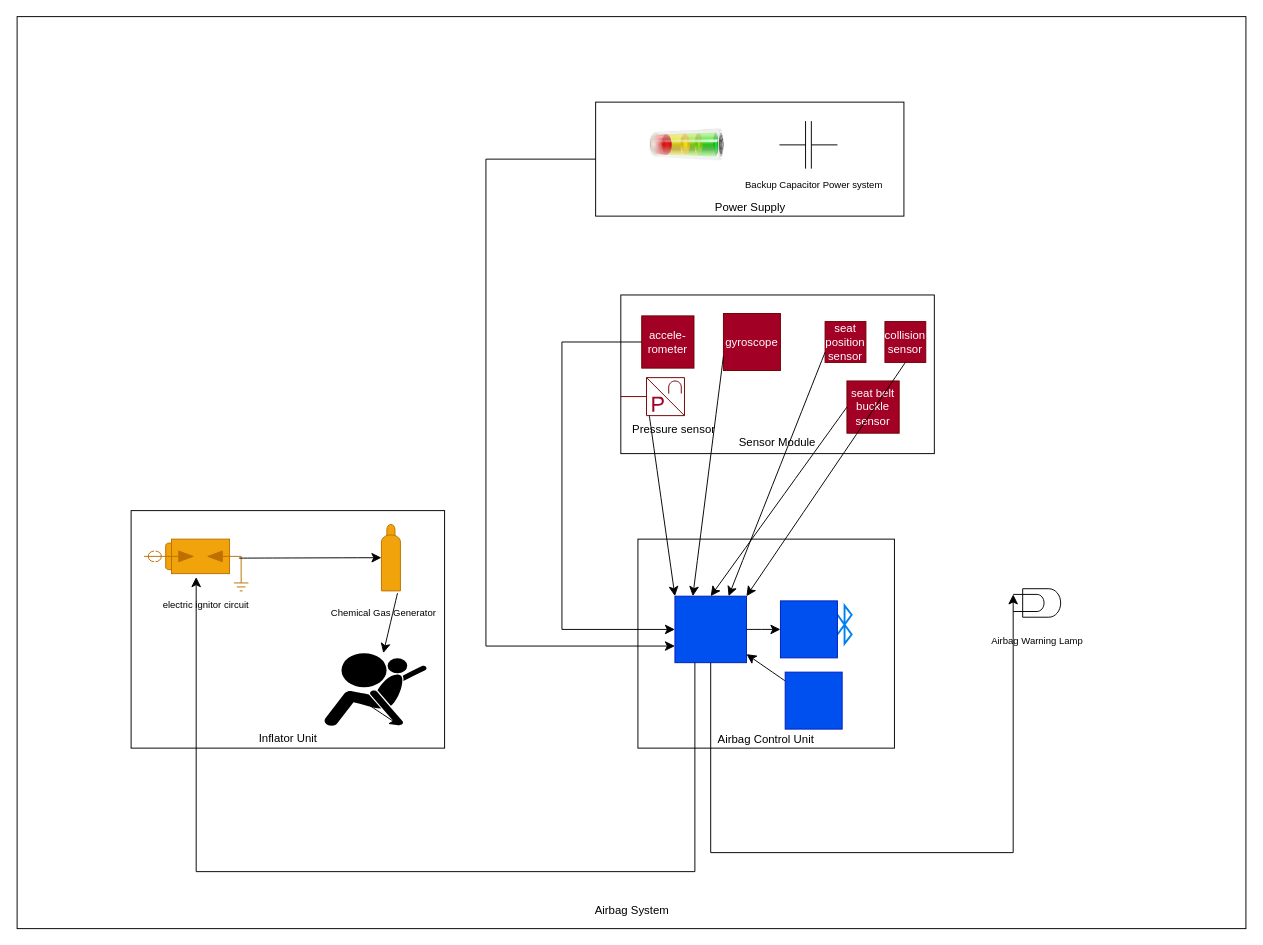
This 1263x945 diagram has some shape labels left out. The centre of each missing label's shape, as x and y in pixels:
"Car main Battery" belongs at point 685,144.
"Event Data Recorder" belongs at point 808,629.
"MCU" belongs at point 710,629.
"self diagnostic unit" belongs at point 813,700.
